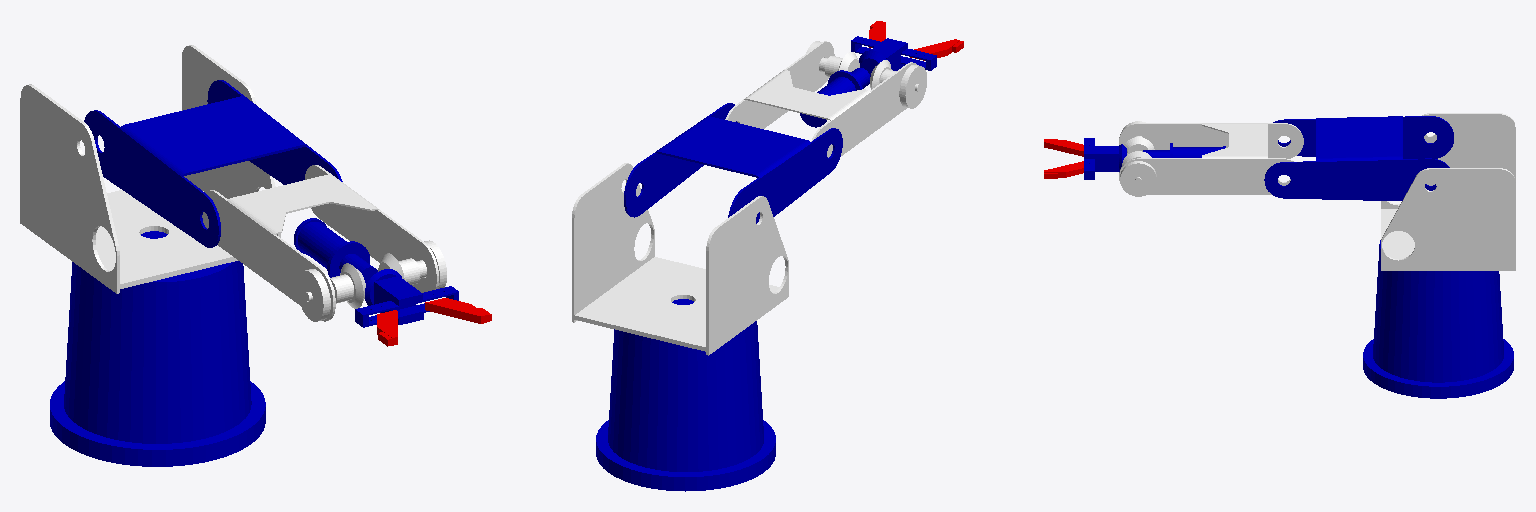
robot.urdf — scorbot:
<?xml version="1.0"?>
<robot name="scorbot">

<material name="blue">
    <color rgba="0 0 .8 0.7"/>
  </material>
  <material name="red">
    <color rgba="1 0 0 0.7"/>
  </material>
  <material name="white">
    <color rgba="1 1 1 0.7"/>
  </material>

  <link name="base_link">
    <visual>
      <geometry>
        <mesh filename="package://testbot_description/urdf/meshes/base.stl" />
      </geometry>
      <origin rpy="1.57075 0 0" xyz="0 0 0"/>
      <material name="blue"/>
    </visual>
    <collision>
      <geometry>
        <mesh filename="package://testbot_description/urdf/meshes/base.stl" />
      </geometry>
      <origin rpy="1.57075 0 0" xyz="0 0 0"/>
    </collision>
  </link>

  <link name="body">
    <visual>
      <geometry>
        <mesh filename="package://testbot_description/urdf/meshes/body.stl" />
      </geometry>
      <origin rpy="0 0 0" xyz="0 0.014 0"/>
      <material name="white"/>
    </visual>
    <collision>
      <geometry>
        <mesh filename="package://testbot_description/urdf/meshes/body.stl" />
      </geometry>
      <origin rpy="0 0 0" xyz="0 0.014 0"/>
    </collision>
  </link>

  <joint name="base_to_body" type="revolute">
    <axis xyz="0 1 0"/>
    <limit effort="255.0" lower="-2.70526" upper="2.70526" velocity="2"/>
    <parent link="base_link"/>
    <child link="body"/>
    <origin rpy="1.57075 0 0" xyz="0 0.007 0"/>
  </joint>

  <link name="upper_arm">
    <visual>
      <geometry>
        <mesh filename="package://testbot_description/urdf/meshes/upper_arm.stl" />
      </geometry>
      <origin rpy="0 0 0" xyz="0 0 0"/>
      <material name="blue"/>
    </visual>
    <collision>
      <geometry>
        <mesh filename="package://testbot_description/urdf/meshes/upper_arm.stl" />
      </geometry>
      <origin rpy="0 0 0" xyz="0 0 0"/>
    </collision>
  </link>


  <joint name="body_to_upper_arm" type="revolute">
    <axis xyz="1 0 0"/>
    <limit effort="255.0" lower="-2.26893" upper="0.610865" velocity="2"/>
    <parent link="body"/>
    <child link="upper_arm"/>
    <origin xyz="0 0.1438 0.019"/>
  </joint>

  <link name="fore_arm">
    <visual>
      <geometry>
        <mesh filename="package://testbot_description/urdf/meshes/fore_arm.stl" />
      </geometry>
      <origin rpy="0 0 0" xyz="0 0 0"/>
      <material name="white"/>
    </visual>
    <collision>
      <geometry>
        <mesh filename="package://testbot_description/urdf/meshes/fore_arm.stl" />
      </geometry>
      <origin rpy="0 0 0" xyz="0 0 0"/>
    </collision>
  </link>


  <joint name="upper_arm_to_fore_arm" type="revolute">
    <axis xyz="1 0 0"/>
    <limit effort="255.0" lower="-2.26893" upper="2.26893" velocity="2"/>
    <parent link="upper_arm"/>
    <child link="fore_arm"/>
    <origin xyz="0 0 0.223"/>
  </joint>

  <link name="wrist_x">
    <visual>
      <geometry>
        <mesh filename="package://testbot_description/urdf/meshes/wrist_x.stl" />
      </geometry>
      <origin rpy="0 0 0" xyz="0 0 0"/>
      <material name="blue"/>
    </visual>
    <collision>
      <geometry>
        <mesh filename="package://testbot_description/urdf/meshes/wrist_x.stl" />
      </geometry>
      <origin rpy="0 0 0" xyz="0 0 0"/>
    </collision>
  </link>


  <joint name="fore_arm_to_wrist_x" type="revolute">
    <axis xyz="1 0 0"/>
    <limit effort="255.0" lower="-2.26893" upper="2.26893" velocity="2"/>
    <parent link="fore_arm"/>
    <child link="wrist_x"/>
    <origin xyz="0 0 0.2215"/>
  </joint>

  <link name="wrist_z">
    <visual>
      <geometry>
        <mesh filename="package://testbot_description/urdf/meshes/wrist_z.stl" />
      </geometry>
      <origin rpy="0 0 0" xyz="0 0 0"/>
      <material name="blue"/>
    </visual>
    <collision>
      <geometry>
        <mesh filename="package://testbot_description/urdf/meshes/wrist_z.stl" />
      </geometry>
      <origin rpy="0 0 0" xyz="0 0 0"/>
    </collision>    
  </link>


  <joint name="wrist_x_to_wrist_z" type="revolute">
    <axis xyz="0 0 1"/>
    <limit effort="255.0" lower="-3.14" upper="3.14" velocity="2"/>
    <parent link="wrist_x"/>
    <child link="wrist_z"/>
    <origin xyz="0 0 0"/>
  </joint>

  <link name="gripper_left">
    <visual>
      <geometry>
        <mesh filename="package://testbot_description/urdf/meshes/gripper_left.stl" />
      </geometry>
      <origin rpy="0 0 0" xyz="0 0 0"/>
      <material name="red"/>
    </visual>
    <collision>
      <geometry>
        <mesh filename="package://testbot_description/urdf/meshes/gripper_left.stl" />
      </geometry>
      <origin rpy="0 0 0" xyz="0 0 0"/>
    </collision>
  </link>


  <joint name="wrist_z_to_gripper_left" type="revolute">
    <axis xyz="0 1 0"/>
    <limit effort="255.0" lower="-1.13446" upper="1.13446" velocity="2"/>
    <parent link="wrist_z"/>
    <child link="gripper_left"/>
    <origin xyz="-0.032 0 0.0745"/>
  </joint>

    <link name="gripper_right">
    <visual>
      <geometry>
        <mesh filename="package://testbot_description/urdf/meshes/gripper_right.stl" />
      </geometry>
      <origin rpy="0 0 0" xyz="0 0 0"/>
      <material name="red"/>
    </visual>
    <collision>
      <geometry>
        <mesh filename="package://testbot_description/urdf/meshes/gripper_right.stl" />
      </geometry>
      <origin rpy="0 0 0" xyz="0 0 0"/>
    </collision>
  </link>


  <joint name="wrist_z_to_gripper_right" type="revolute">
    <axis xyz="0 -1 0"/>
    <limit effort="255.0" lower="-1.13446" upper="1.13446" velocity="2"/>
    <parent link="wrist_z"/>
    <child link="gripper_right"/>
    <origin xyz="0.032 0 0.0745"/>
  </joint>
 </robot>

--- Facts derived from the render (not from the file) ---
3 views of the same robot in one strip: view 1: azimuth 30°, elevation 25°; view 2: azimuth 150°, elevation 25°; view 3: azimuth 270°, elevation 25° (orthographic).
Robot: scorbot — 8 links, 7 joints (7 revolute); root link base_link; default pose: every joint at zero.
Links seen in each view (by area): view 1: base_link, body, upper_arm, fore_arm, wrist_z, wrist_x, gripper_right, gripper_left; view 2: body, base_link, upper_arm, fore_arm, wrist_z, wrist_x; view 3: body, base_link, upper_arm, fore_arm, wrist_z, wrist_x.
Boxes of the visible links, x1,y1,x2,y2 form: base_link: (50, 231, 265, 466); body: (20, 45, 280, 293); upper_arm: (84, 80, 342, 247); fore_arm: (202, 165, 446, 321); wrist_z: (355, 269, 458, 327); wrist_x: (294, 218, 377, 284); gripper_right: (425, 298, 491, 323); gripper_left: (377, 310, 397, 346); body: (572, 163, 788, 355); base_link: (596, 299, 775, 491); upper_arm: (624, 103, 842, 223); fore_arm: (725, 41, 926, 157); wrist_z: (851, 36, 936, 76); wrist_x: (800, 68, 869, 127); body: (1381, 113, 1515, 270); base_link: (1363, 240, 1513, 398); upper_arm: (1264, 116, 1453, 200); fore_arm: (1119, 121, 1303, 196); wrist_z: (1084, 138, 1126, 179); wrist_x: (1143, 143, 1225, 157).
Bounding box of the posed robot: 0.2299 × 0.7166 × 0.3867 m (x, y, z).
8 mesh visuals loaded from 8 distinct referenced files (8 binary STL).